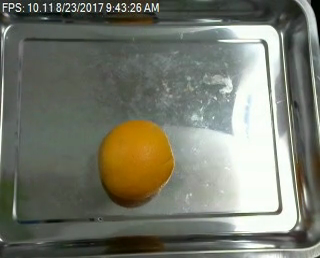Orange: (98, 120, 176, 202)
